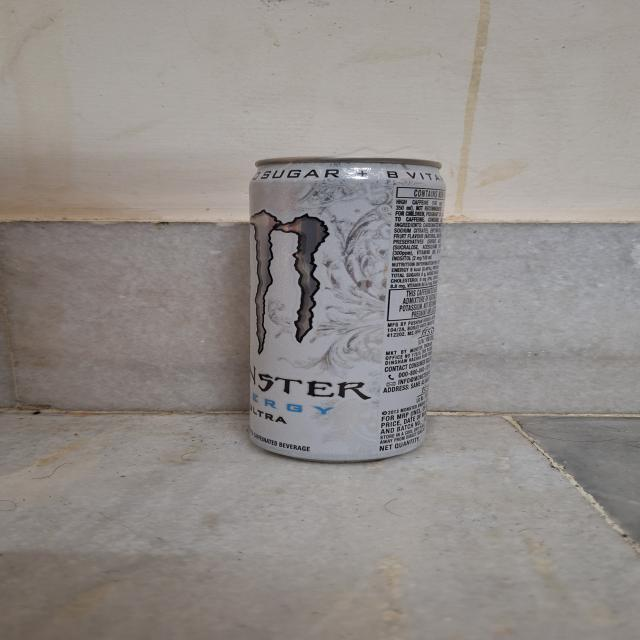White Monster: (220, 144, 455, 476)
